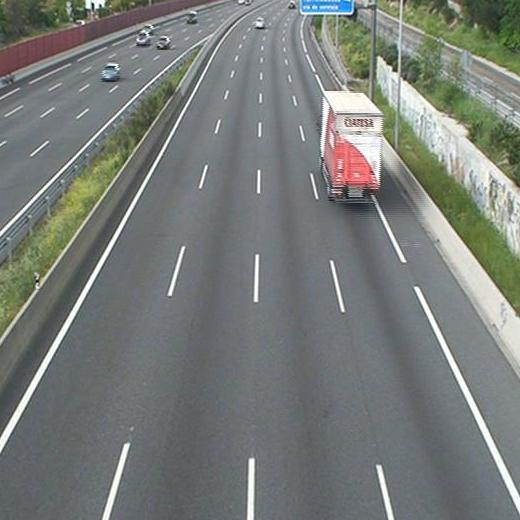car: (255, 17, 266, 27)
small-truck: (320, 90, 381, 203)
